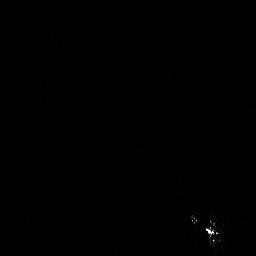ship: (189, 211, 225, 248)
